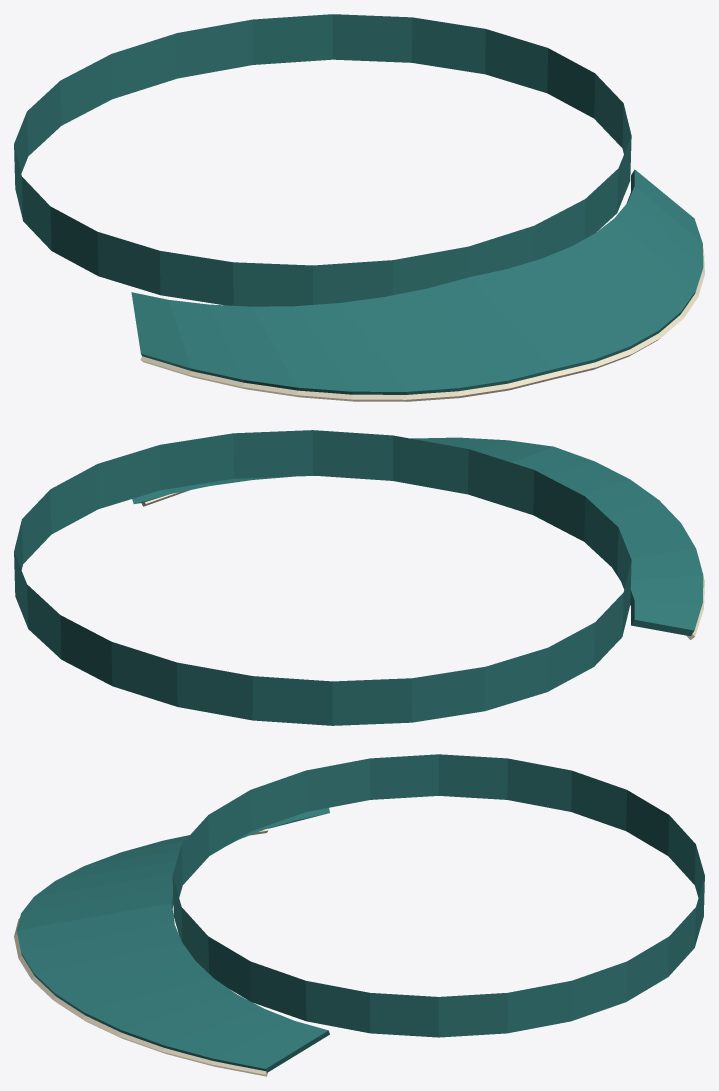
Rendered from hat-courtside-visor.glb.
3 views of the same model, one above another, from view 1: azimuth 30°, elevation 25°; view 2: azimuth 150°, elevation 25°; view 3: azimuth 270°, elevation 25° (orthographic). The views are drawn at different scales.
Parts seen in each view (by area): view 1: hat-courtside-visor_ref2_hat-courtside-visor__head_mesh; view 2: hat-courtside-visor_ref2_hat-courtside-visor__head_mesh; view 3: hat-courtside-visor_ref2_hat-courtside-visor__head_mesh.
Part boxes in pixels (box(x1,y1,x2,y2)): hat-courtside-visor_ref2_hat-courtside-visor__head_mesh: box(14, 14, 704, 401); hat-courtside-visor_ref2_hat-courtside-visor__head_mesh: box(14, 430, 704, 725); hat-courtside-visor_ref2_hat-courtside-visor__head_mesh: box(14, 754, 704, 1076).
Bounding box in the file's own units: 0.503 × 0.0752 × 0.5945.
